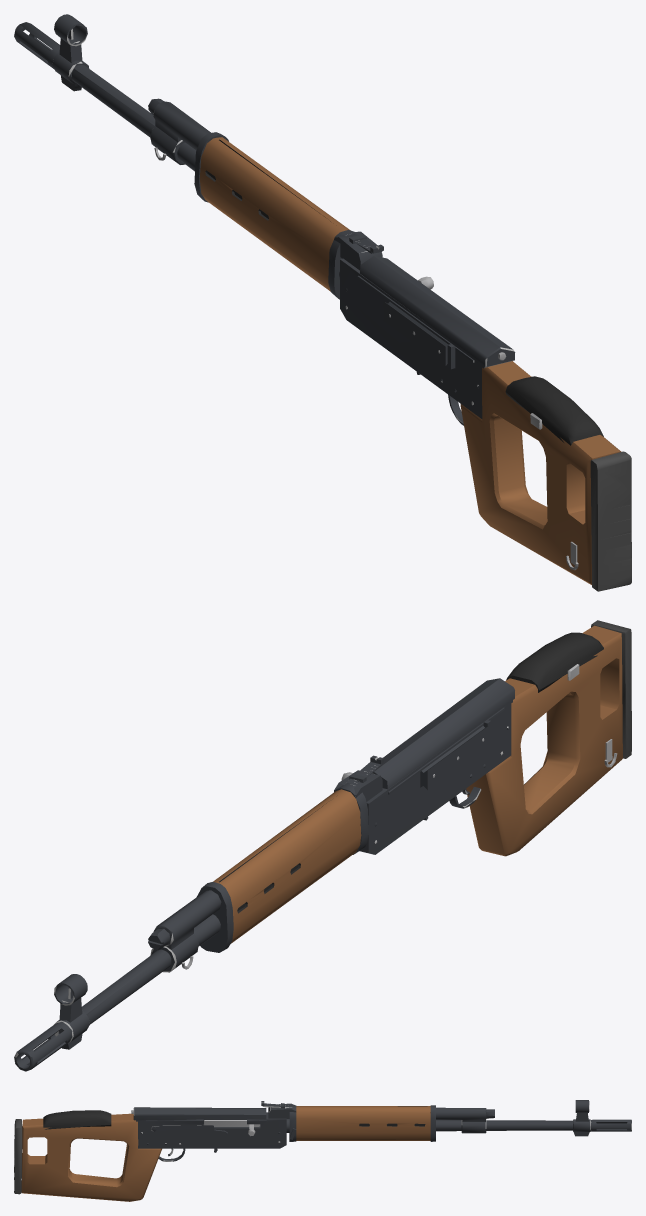
File: svd_lod1.glb
3 renders of one model, top to bottom at view 1: azimuth 30°, elevation 25°; view 2: azimuth 150°, elevation 25°; view 3: azimuth 270°, elevation 25°, orthographic. The views are drawn at different scales.
Visible parts, largest first — view 1: Wood, Blued, Rubber, Black; view 2: Wood, Blued, Black, Rubber; view 3: Wood, Blued, Black, Rubber, Steel, Worn.
Part boxes in pixels (x1,y1,x2,y2): Wood: (199,137,621,584); Blued: (14,14,515,425); Rubber: (590,451,631,591); Black: (205,139,603,445); Wood: (213,625,622,943); Blued: (14,678,514,1071); Black: (219,632,603,913); Rubber: (591,620,631,758); Wood: (21,1106,430,1201); Blued: (133,1100,631,1161); Black: (43,1106,427,1129); Rubber: (14,1119,22,1194); Steel: (131,1110,260,1136); Worn: (133,1102,631,1161).
Size of the model in its own units: 0.0791 by 0.2152 by 1.23.
